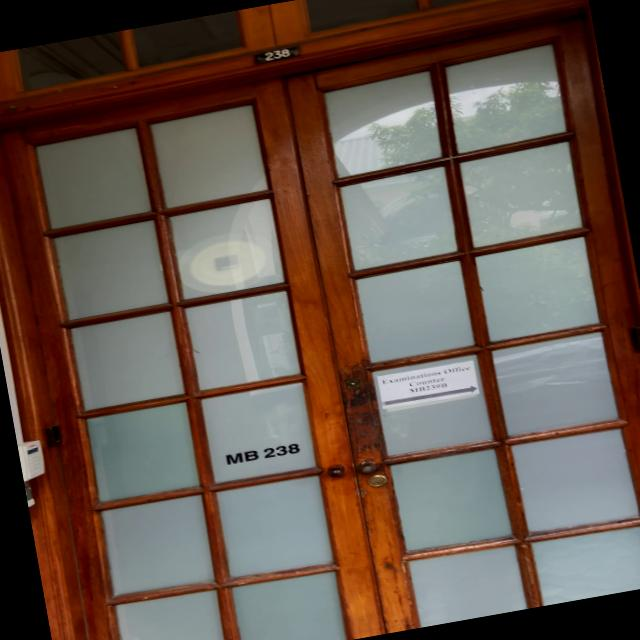room238: (250, 43, 302, 66)
